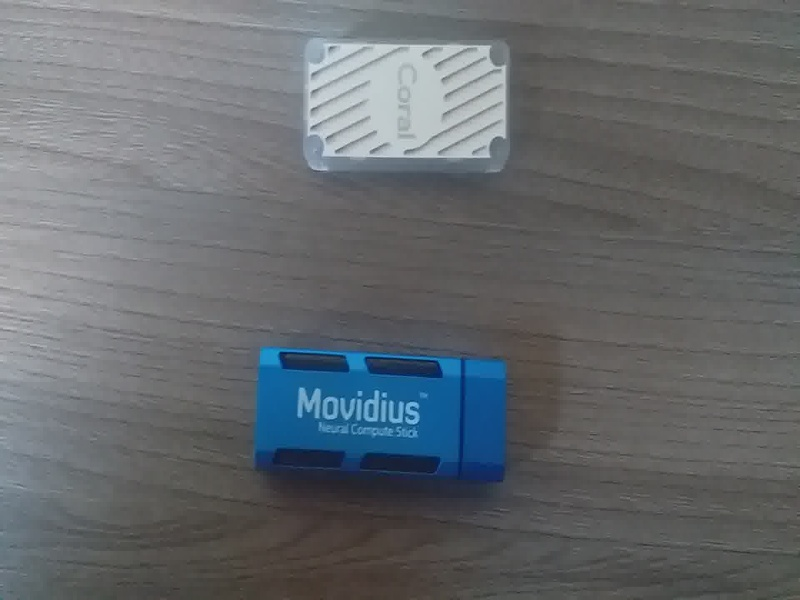coral: (297, 28, 526, 186)
movidius: (248, 335, 522, 492)
